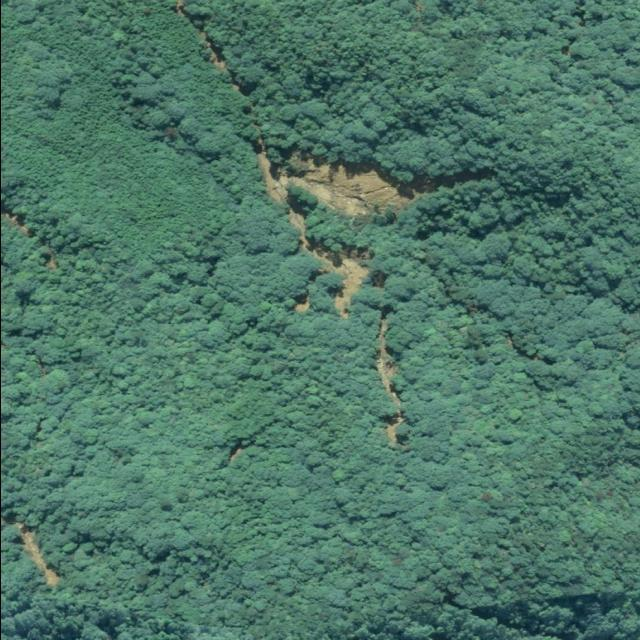landslide: (256, 141, 422, 218), (275, 152, 418, 216), (288, 205, 369, 317), (321, 257, 368, 318)
